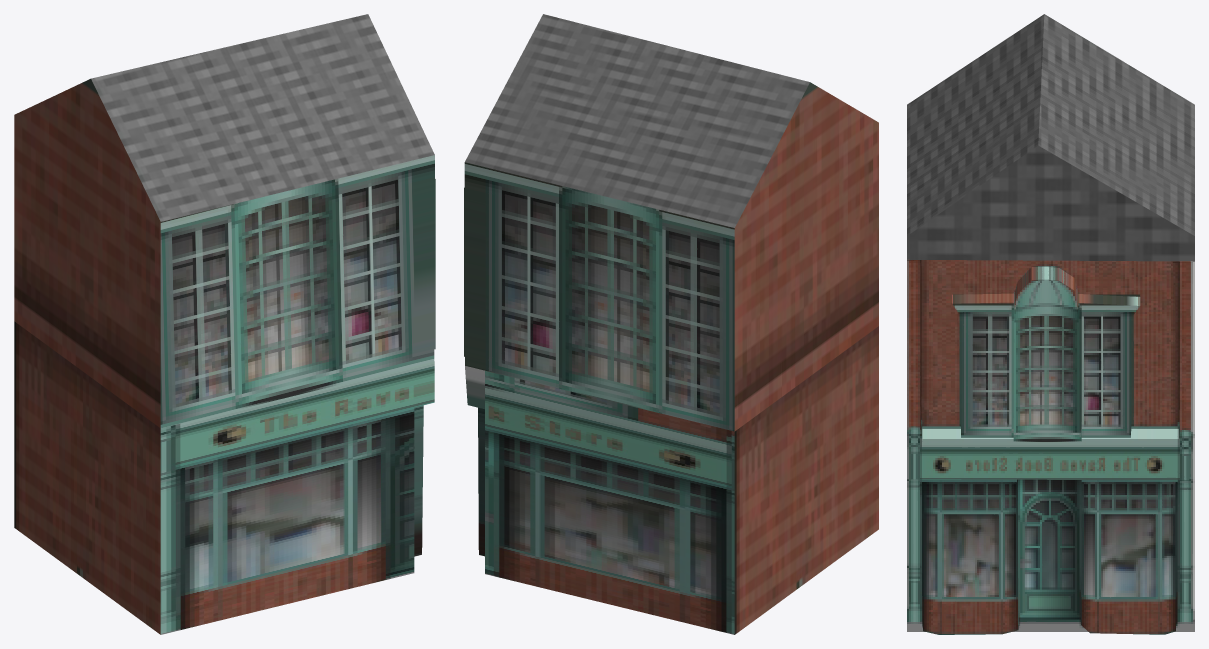
The model's file is BookStore.fbx.
The picture shows the model from 3 angles, left to right: view 1: azimuth 30°, elevation 25°; view 2: azimuth 150°, elevation 25°; view 3: azimuth 270°, elevation 25°; orthographic projection.
Visible parts, largest first — view 1: Cube; view 2: Cube; view 3: Cube.
Boxes of the visible parts, x1,y1,x2,y2 form: Cube: [14, 14, 435, 634]; Cube: [464, 14, 878, 634]; Cube: [907, 14, 1194, 634].
Bounding box in the file's own units: 1190 × 2051 × 1077.
Materials: 1 (1 with a texture image).
